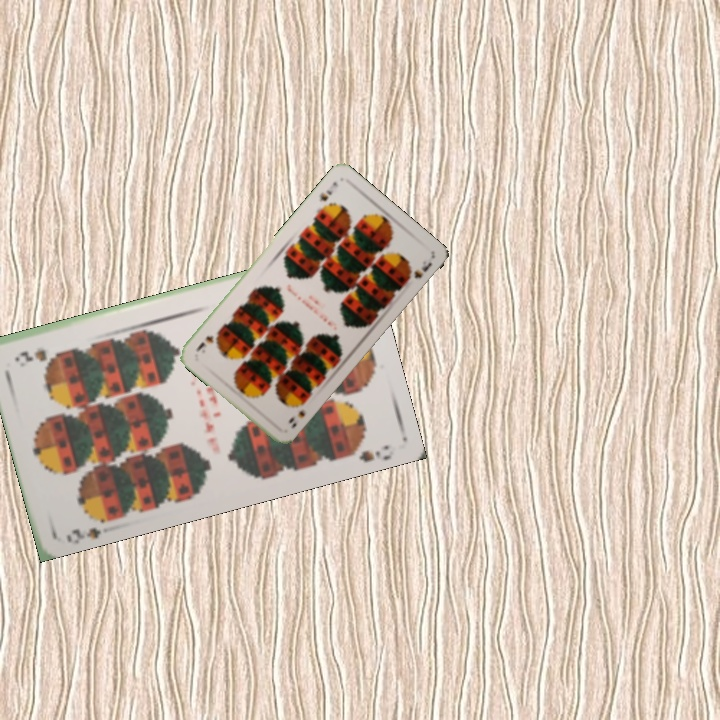S9: (62, 508, 116, 545), (315, 177, 340, 204), (284, 405, 308, 431)
